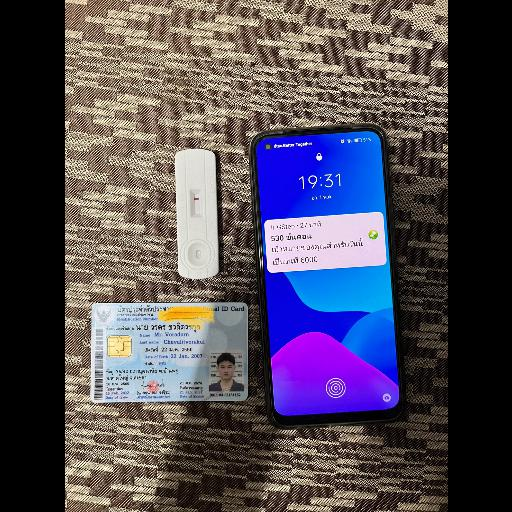Neg: (173, 148, 217, 278)
